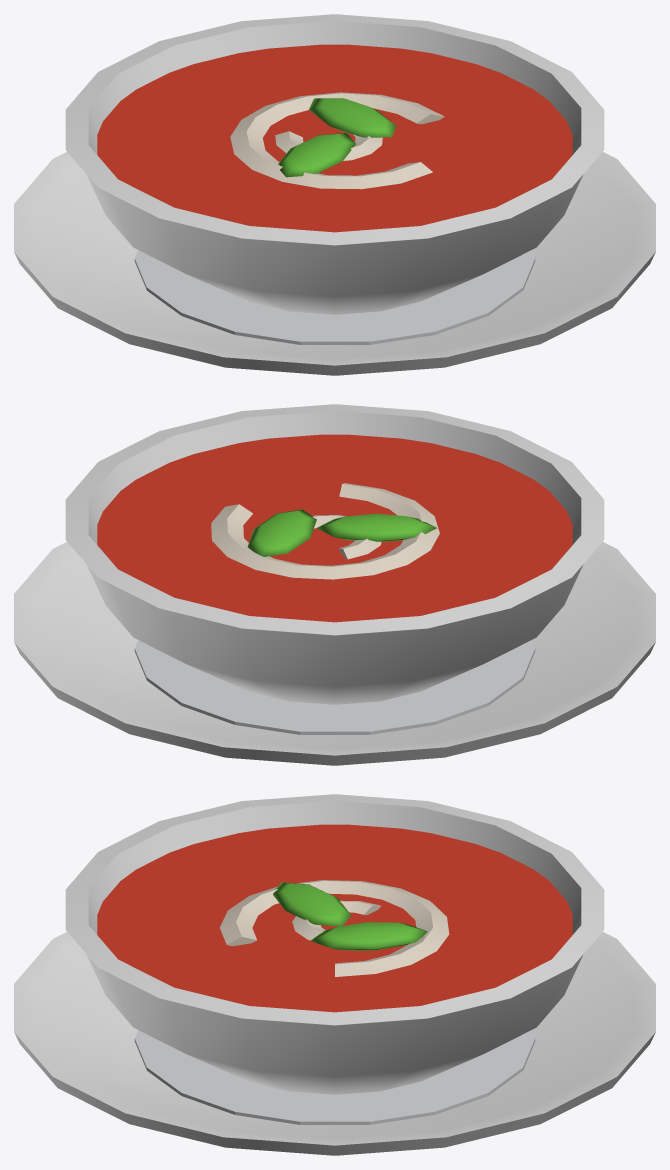
The model's file is dish_soup.glb.
3 renders of one model, top to bottom at view 1: azimuth 30°, elevation 25°; view 2: azimuth 150°, elevation 25°; view 3: azimuth 270°, elevation 25°, orthographic.
Parts seen in each view (by area): view 1: dish_soup; view 2: dish_soup; view 3: dish_soup.
Part boxes in pixels (box(x1,y1,x2,y2)): dish_soup: box(14, 14, 655, 375); dish_soup: box(14, 404, 655, 765); dish_soup: box(14, 794, 655, 1155).
Bounding box in the file's own units: 0.56 × 0.158 × 0.5515.
